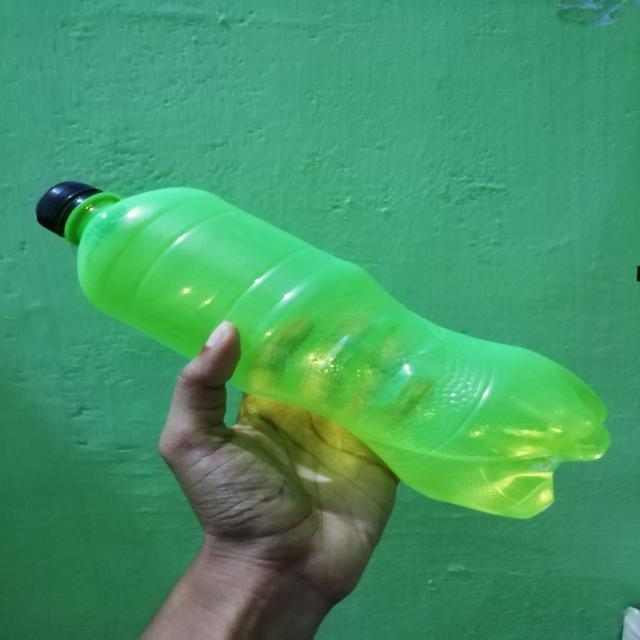plastic_bottle: (35, 180, 612, 520)
